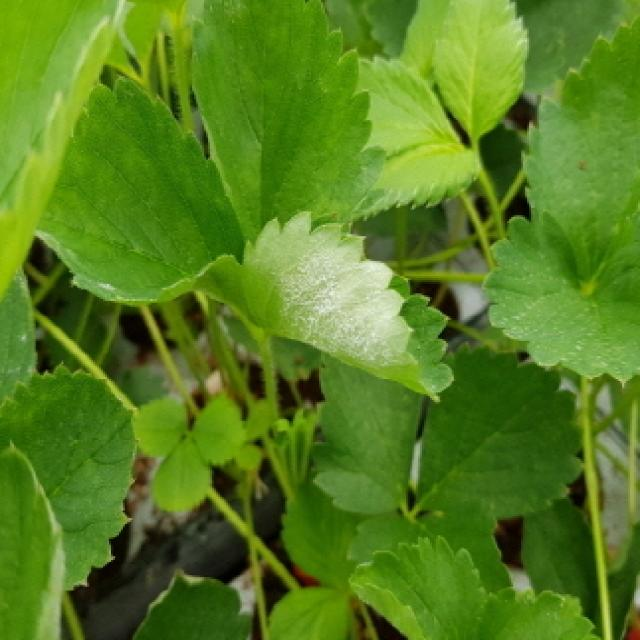Powdery Mildew Leaf: (33, 74, 245, 317), (242, 210, 456, 404), (522, 14, 640, 275)
